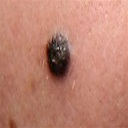Melanoma: (42, 30, 76, 77)
